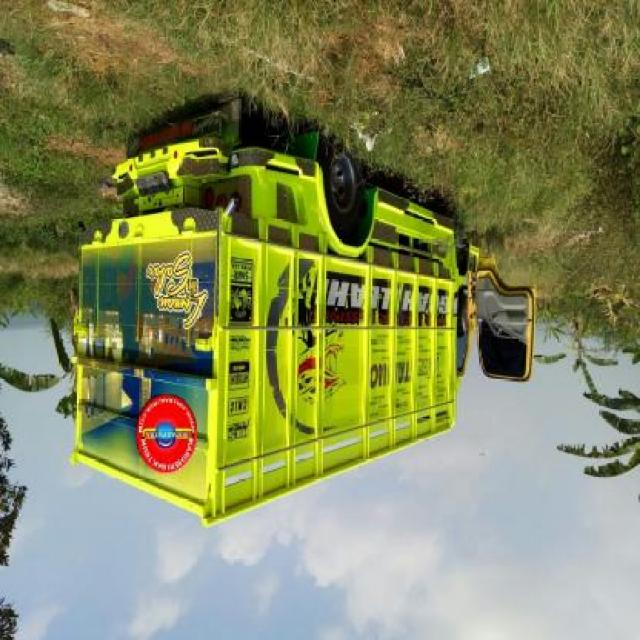truck: (74, 100, 539, 531)
